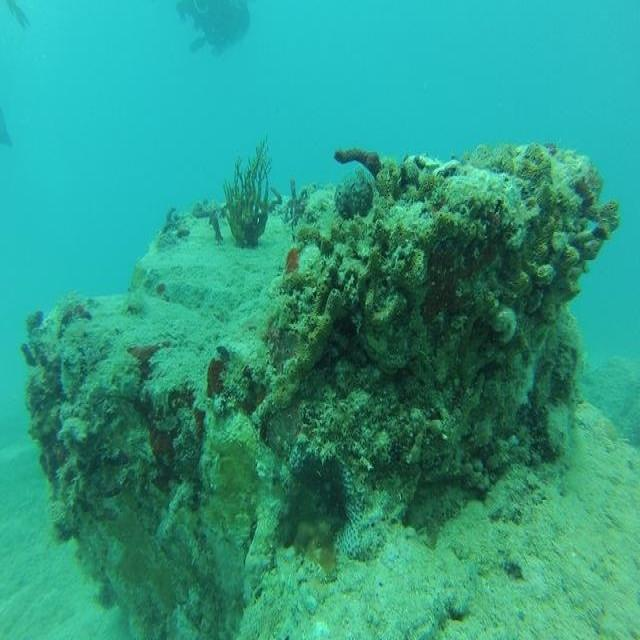aquatic plants: (217, 131, 273, 250)
fish: (175, 1, 248, 51)
sea-floor: (17, 142, 639, 639)
